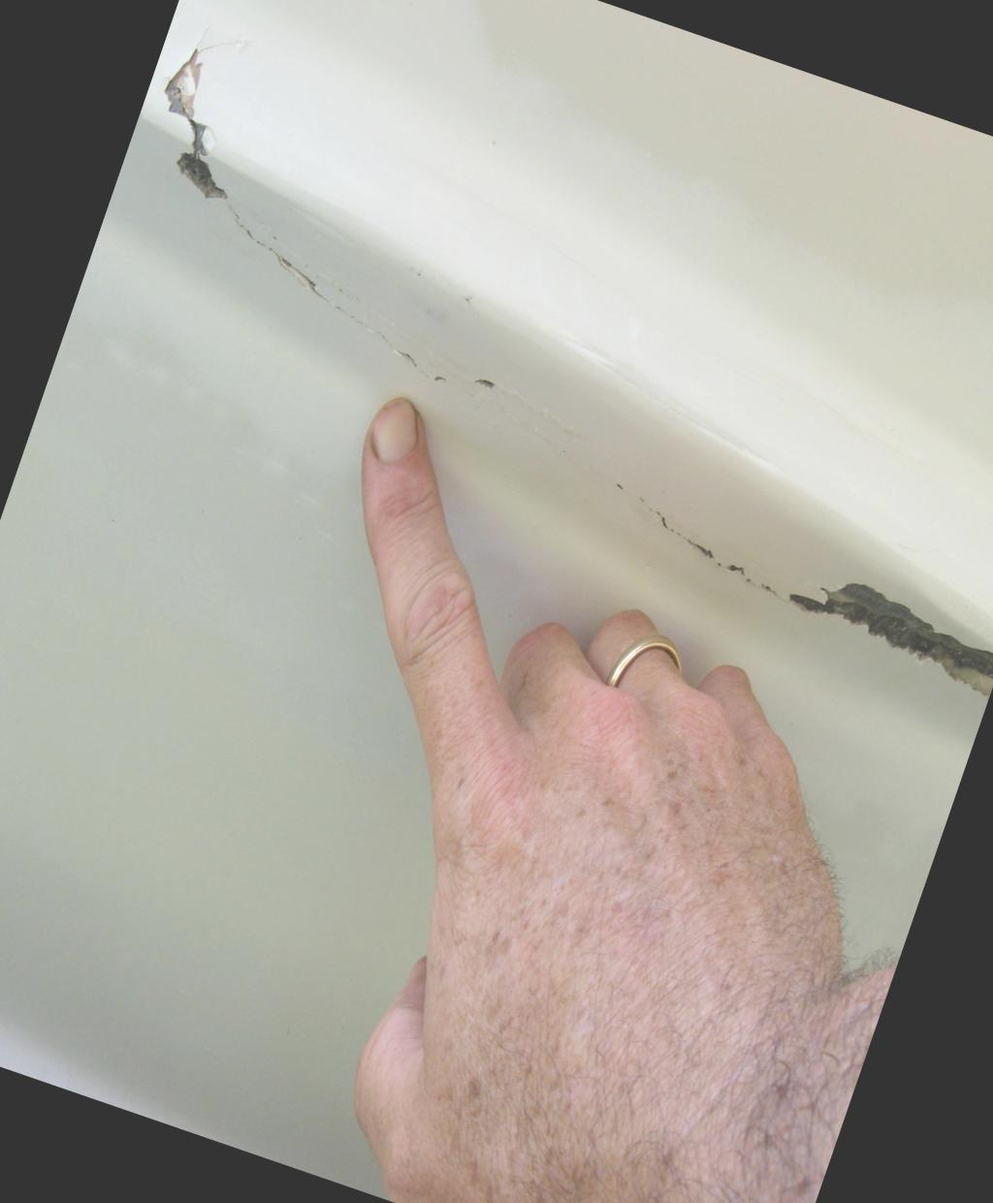crack: (64, 26, 993, 693)
